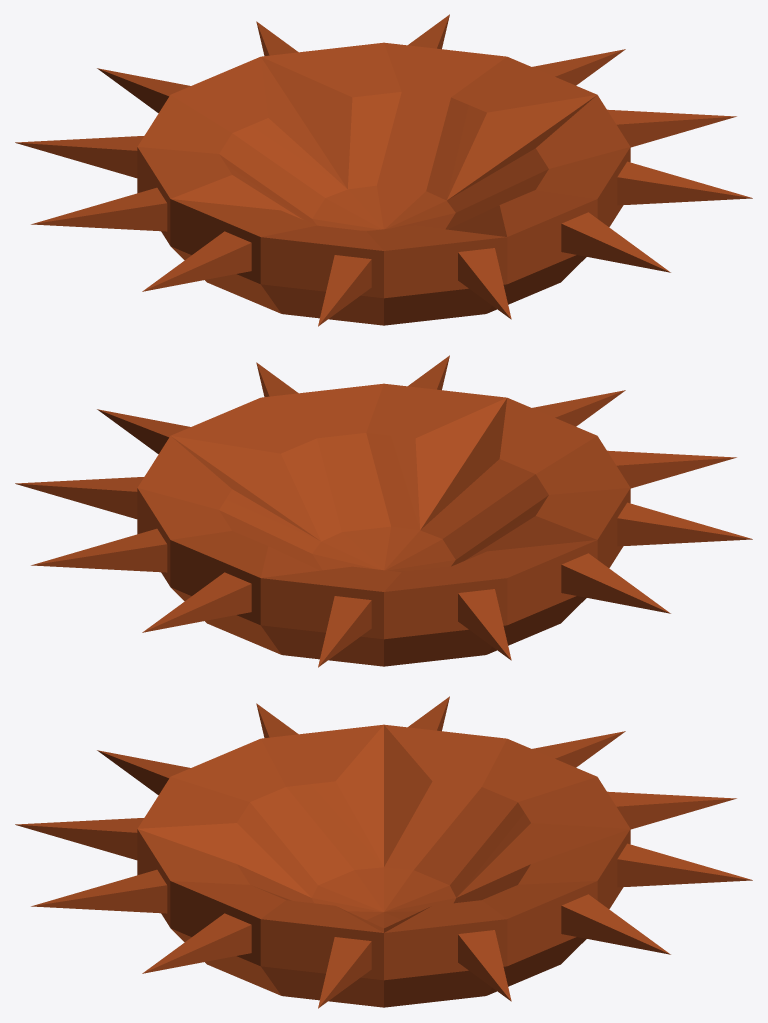
The model's file is 3Disc.fbx.
3 views of the same model, one above another, from view 1: azimuth 30°, elevation 25°; view 2: azimuth 150°, elevation 25°; view 3: azimuth 270°, elevation 25° (orthographic).
Visible parts, largest first — view 1: 3Disc; view 2: 3Disc; view 3: 3Disc.
Part boxes in pixels (<box>): 3Disc: <box>15,14,752,326</box>; 3Disc: <box>15,355,752,667</box>; 3Disc: <box>15,696,752,1008</box>.
Size of the model in its own units: 543 by 136 by 543.
